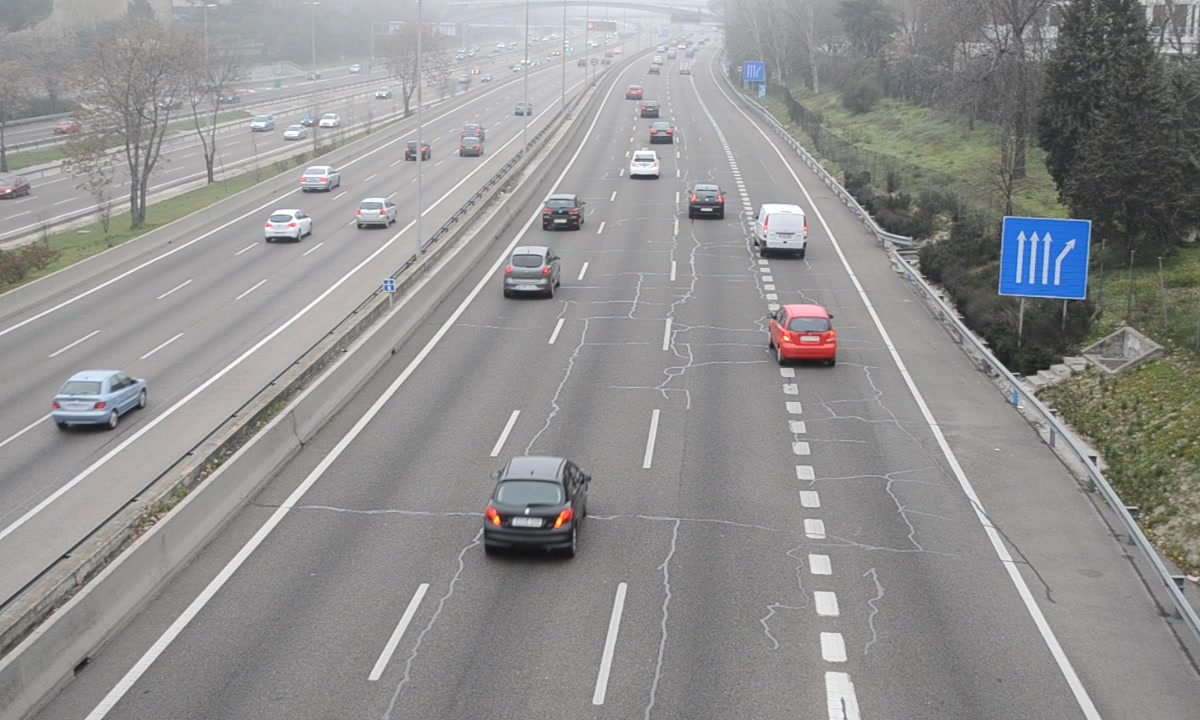car: (485, 458, 587, 555), (773, 303, 838, 361), (506, 245, 557, 295), (542, 195, 585, 229), (689, 184, 727, 219), (628, 146, 662, 178), (650, 120, 673, 143)
van: (759, 204, 808, 256)
